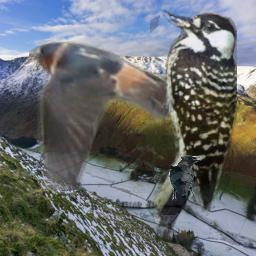Crow: (169, 154, 201, 205)
Swallow: (29, 35, 192, 190)
Woodpecker: (150, 9, 237, 242)
